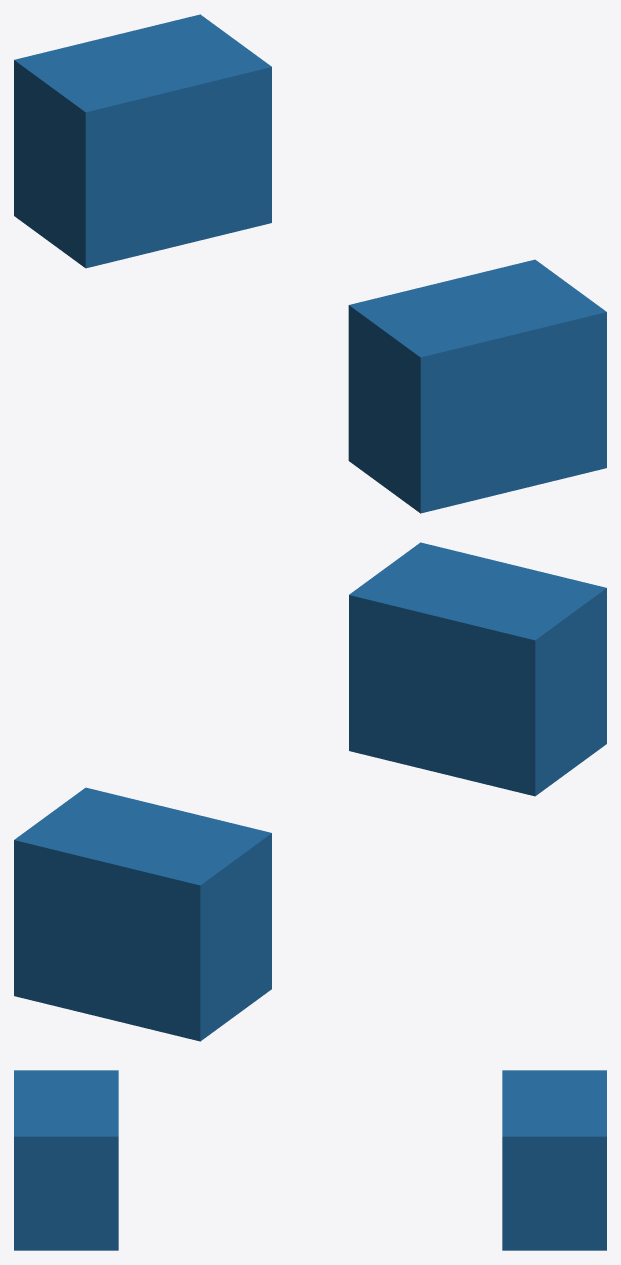
The model's file is Phase15 (2).fbx.
3 views of the same model, one above another, from view 1: azimuth 30°, elevation 25°; view 2: azimuth 150°, elevation 25°; view 3: azimuth 270°, elevation 25° (orthographic). The views are drawn at different scales.
Parts seen in each view (by area): view 1: Воздуховод прямоугольного сечения:CPS_Оцинковка_Тройники_ГОС (×2); view 2: Воздуховод прямоугольного сечения:CPS_Оцинковка_Тройники_ГОС (×2); view 3: Воздуховод прямоугольного сечения:CPS_Оцинковка_Тройники_ГОС (×2).
Boxes of the visible parts, bbox=[...] form: Воздуховод прямоугольного сечения:CPS_Оцинковка_Тройники_ГОС (×2): bbox=[14, 14, 606, 513]; Воздуховод прямоугольного сечения:CPS_Оцинковка_Тройники_ГОС (×2): bbox=[14, 542, 606, 1041]; Воздуховод прямоугольного сечения:CPS_Оцинковка_Тройники_ГОС (×2): bbox=[14, 1070, 606, 1250].
Size of the model in its own units: 1500 by 5667 by 1200.
